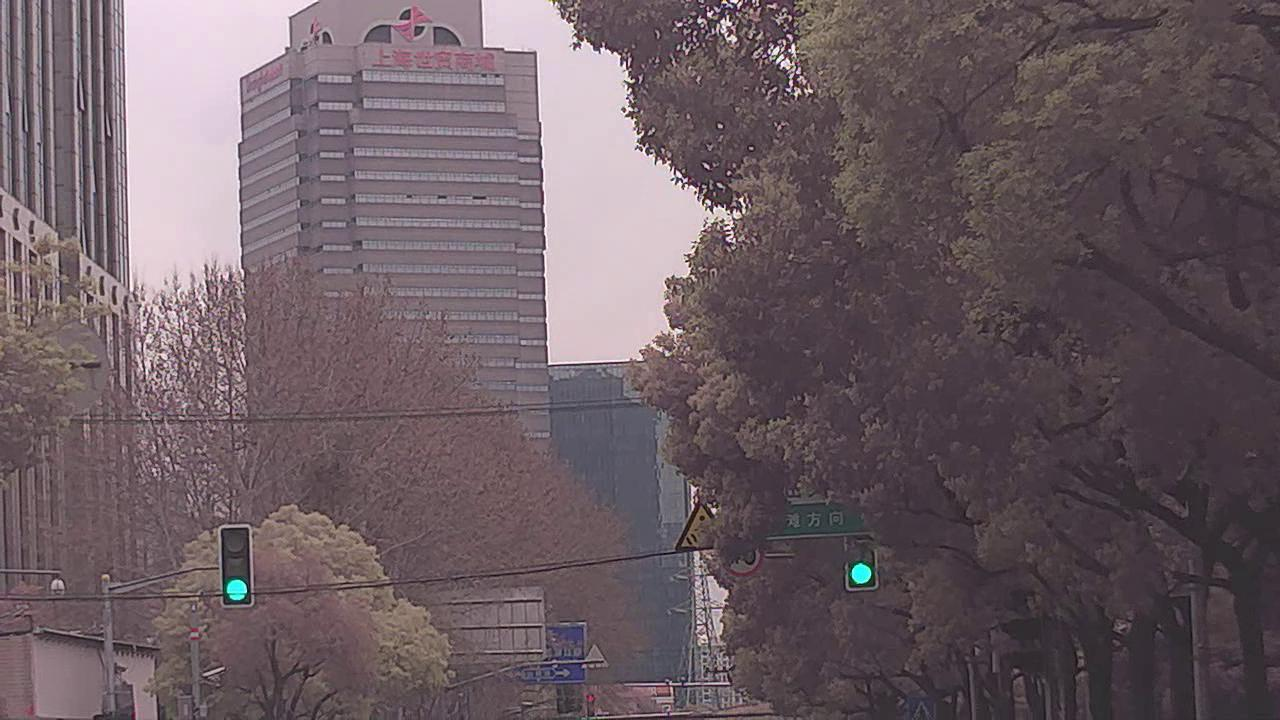traffic_light: (220, 524, 256, 605), (844, 535, 875, 593), (586, 693, 597, 717)
